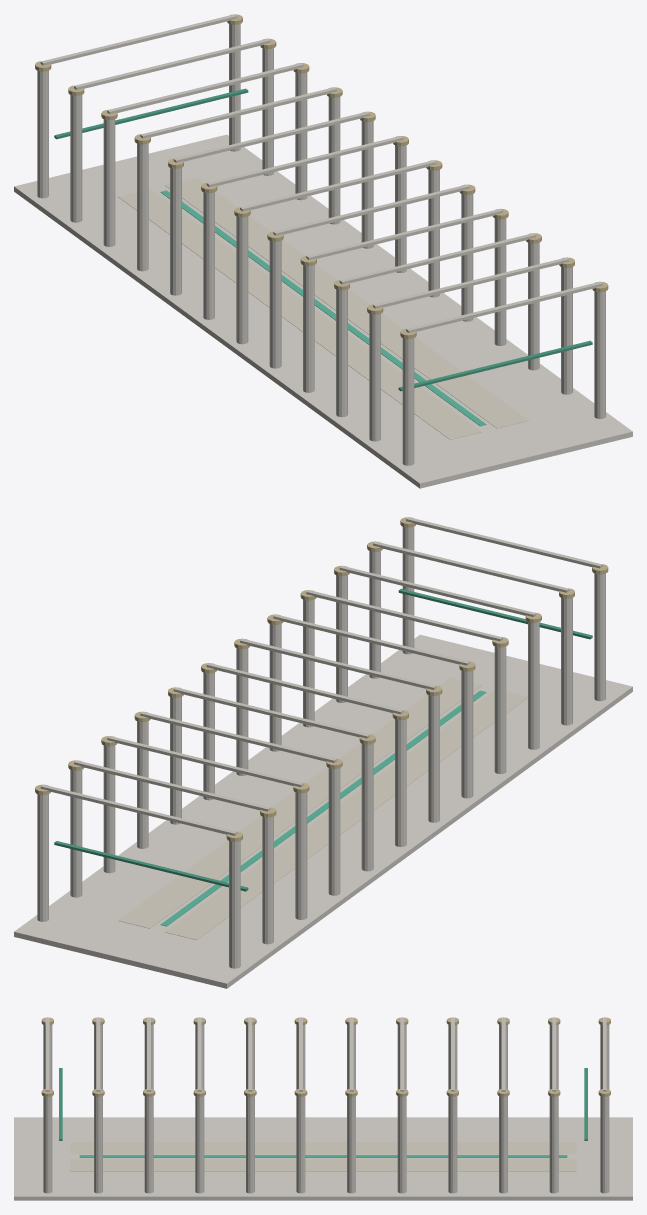
The model's file is rifqa_sai_focus.glb.
3 views of the same model, one above another, from view 1: azimuth 30°, elevation 25°; view 2: azimuth 150°, elevation 25°; view 3: azimuth 270°, elevation 25° (orthographic). The views are drawn at different scales.
Parts seen in each view (by area): view 1: world; view 2: world; view 3: world.
Boxes of the visible parts, left/top/right/bottom form: world: left=14, top=14, right=632, bottom=488; world: left=14, top=517, right=632, bottom=988; world: left=14, top=1017, right=632, bottom=1200.
Size of the model in its own units: 10 by 6.29 by 33.
